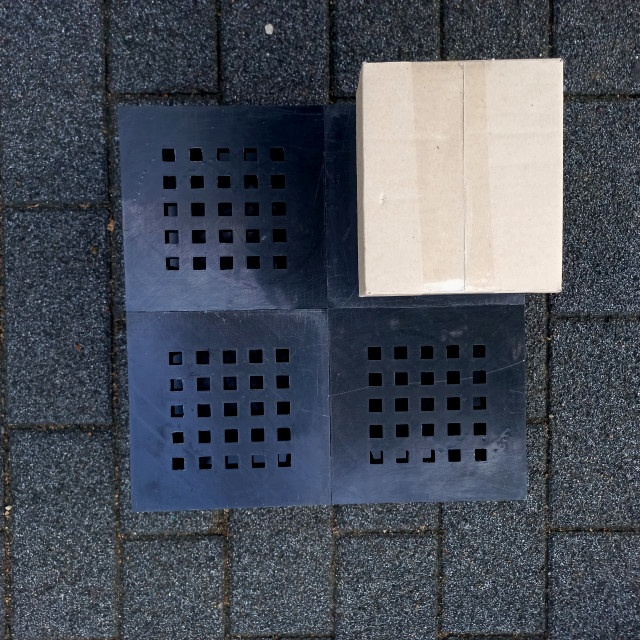box: (356, 57, 567, 297)
pallet: (108, 89, 541, 512)
